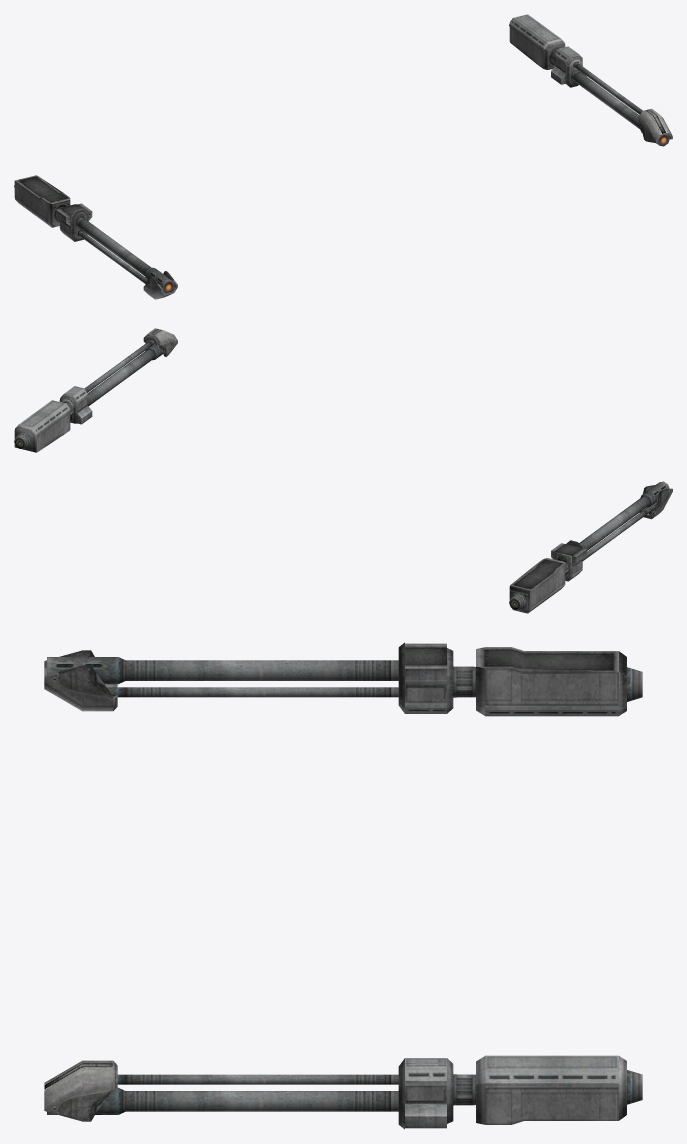
File: xwing_weapon1_neg_s06_l0.fbx
3 renders of one model, top to bottom at view 1: azimuth 30°, elevation 25°; view 2: azimuth 150°, elevation 25°; view 3: azimuth 270°, elevation 25°, orthographic. The views are drawn at different scales.
Parts seen in each view (by area): view 1: mesh_node; view 2: mesh_node; view 3: mesh_node.
Part boxes in pixels (box(x1,y1,x2,y2)): mesh_node: box(14, 14, 672, 299); mesh_node: box(14, 328, 672, 613); mesh_node: box(44, 642, 642, 1129).
Size of the model in its own units: 12.97 by 1.55 by 6.45.
